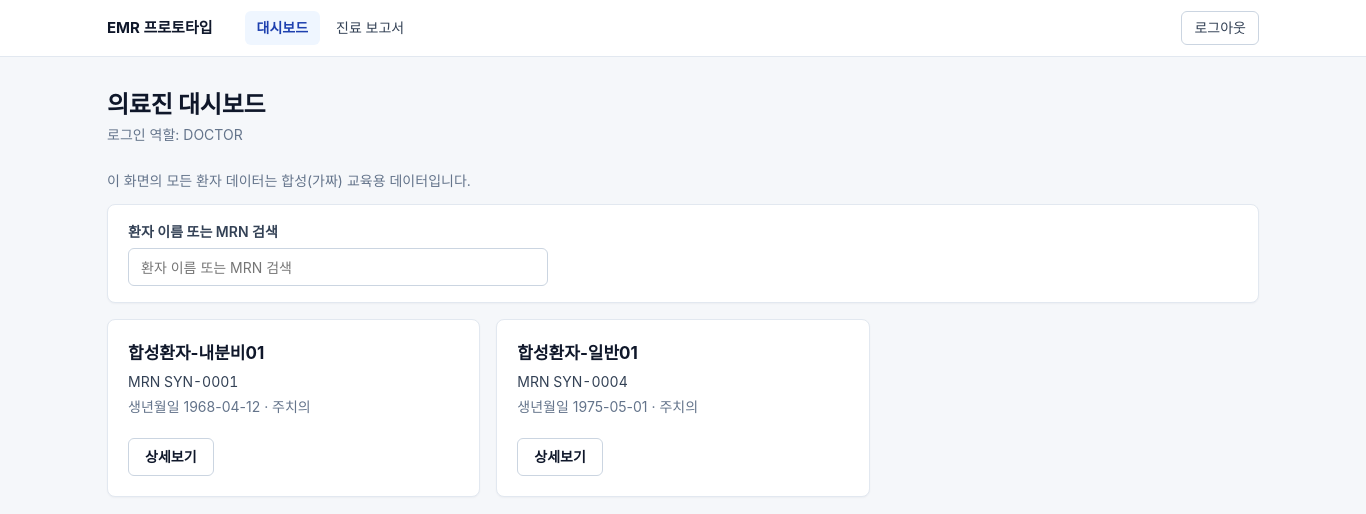
DoctorDashboard Patient Search (UX-1A) › shows a search-specific empty state, not the no-assigned-patients empty state
The width and height of the screenshot is (1366, 514).
Expected: the text "합성환자-내분비01" is shown, [128,343,264,363]
Step 1. Type "존재하지않는검색어" into the field labelled "환자 이름 또는 MRN 검색" → [338, 267], box [128,248,548,286]
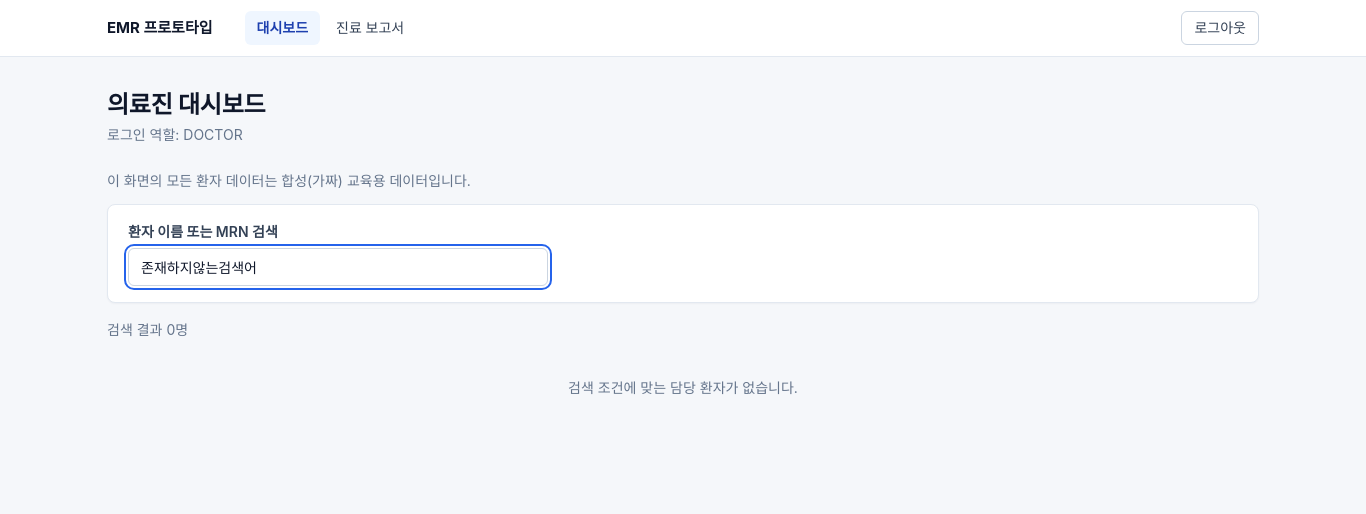
Expected: the text "검색 조건에 맞는 담당 환자가 없습니다." is shown, [568,379,798,396]
